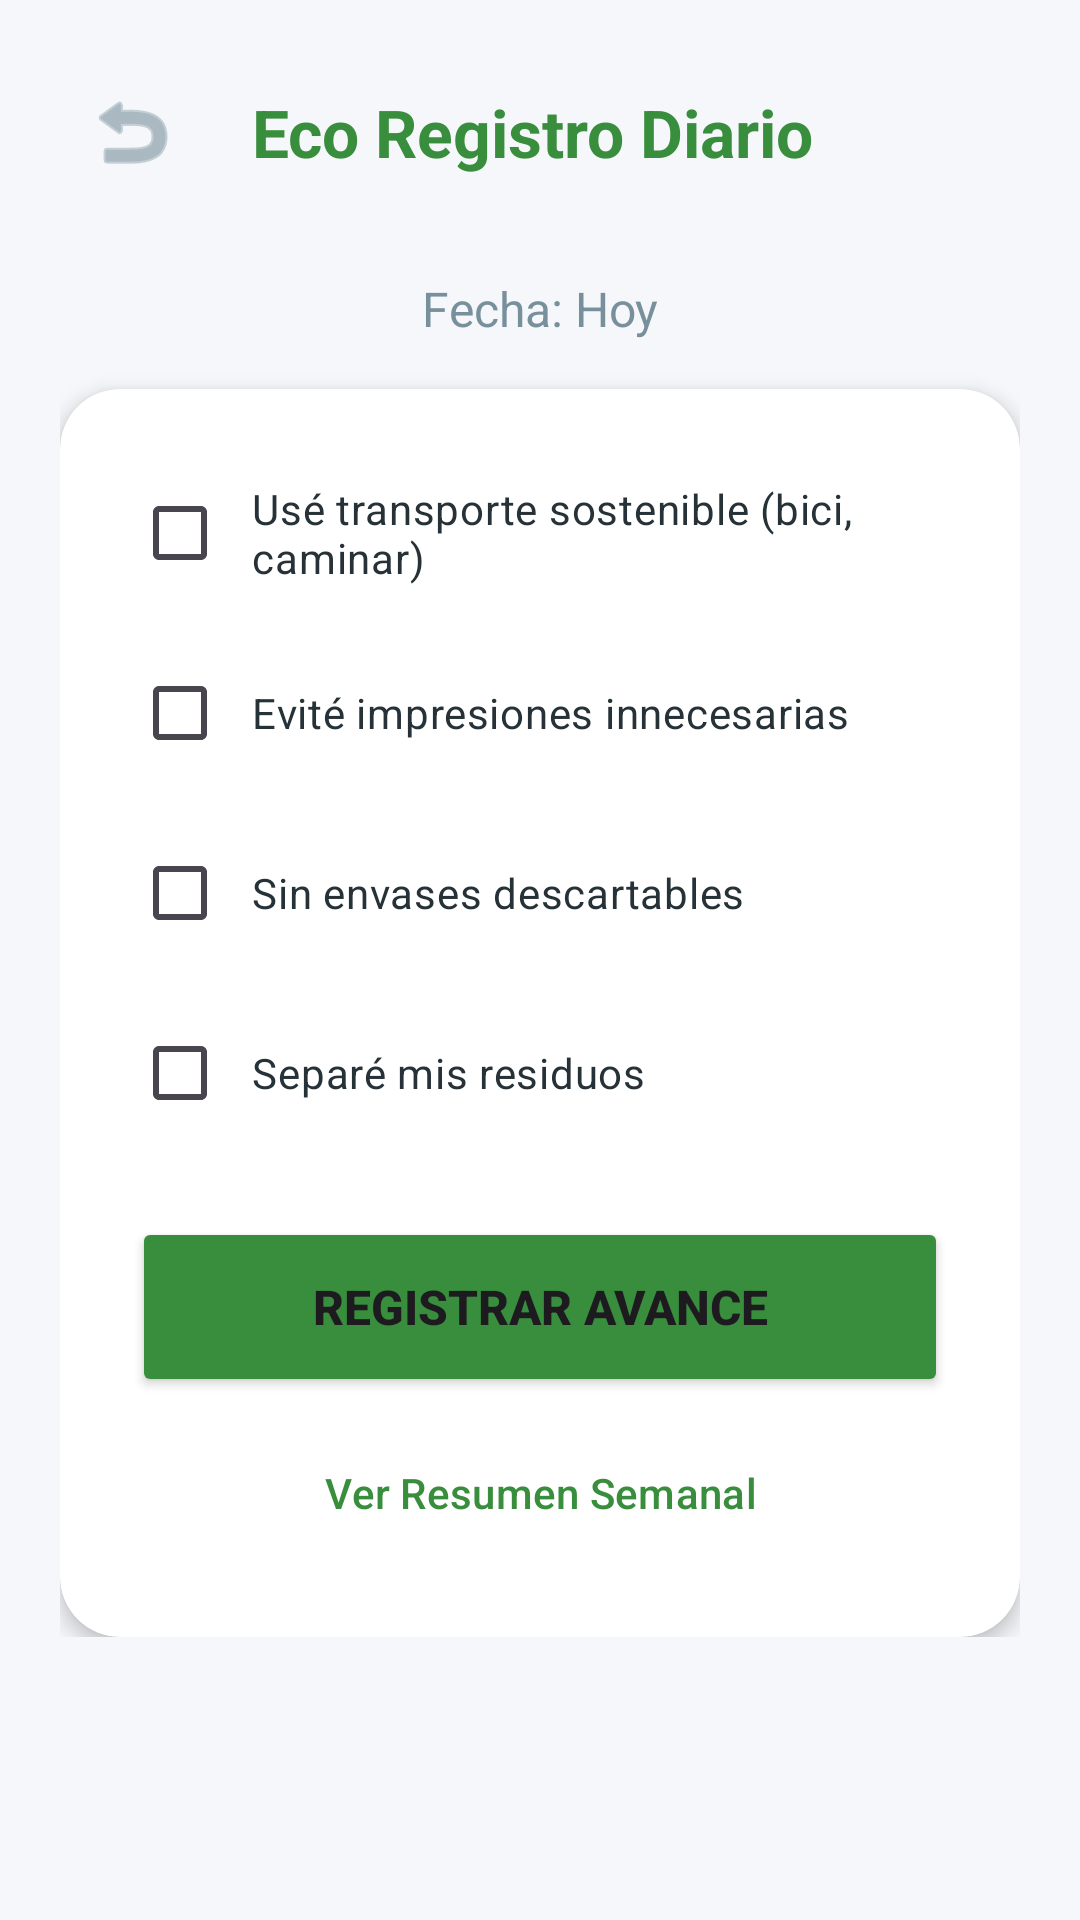

Screen size 1080×1920. Icon name, then its center in pixels as (x=x, y=y):
Volver: (x=133, y=133)
